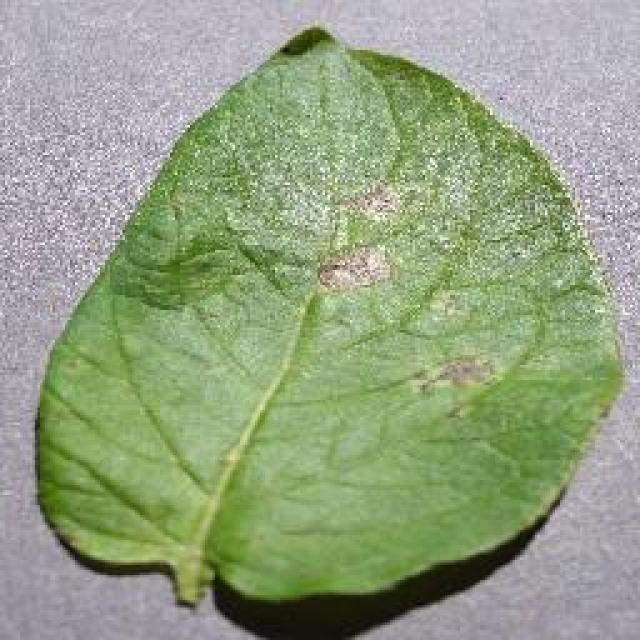early_blight: (28, 20, 628, 615)
